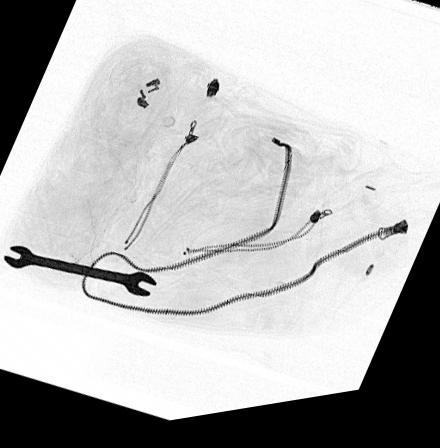Wrench: (0, 244, 158, 303)
